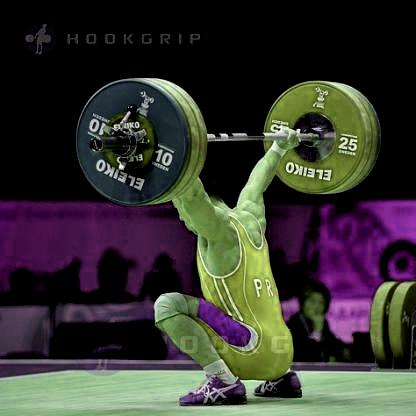barbell: (75, 80, 187, 206), (263, 80, 368, 196)
